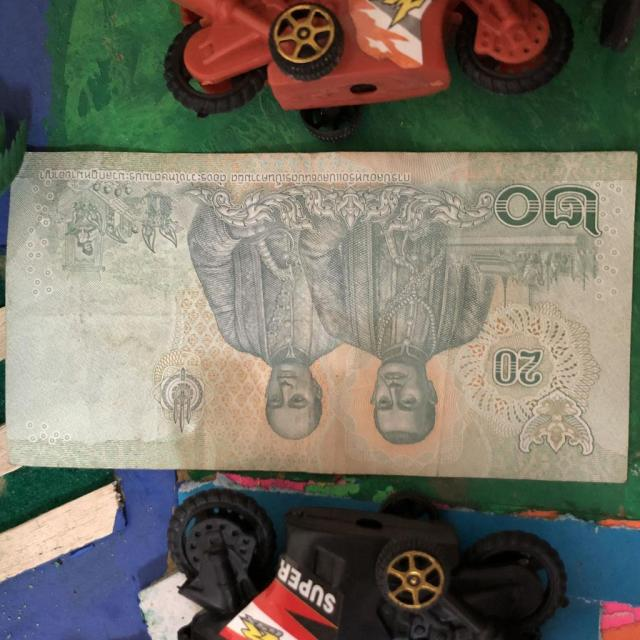THAI20: (7, 152, 637, 483)
